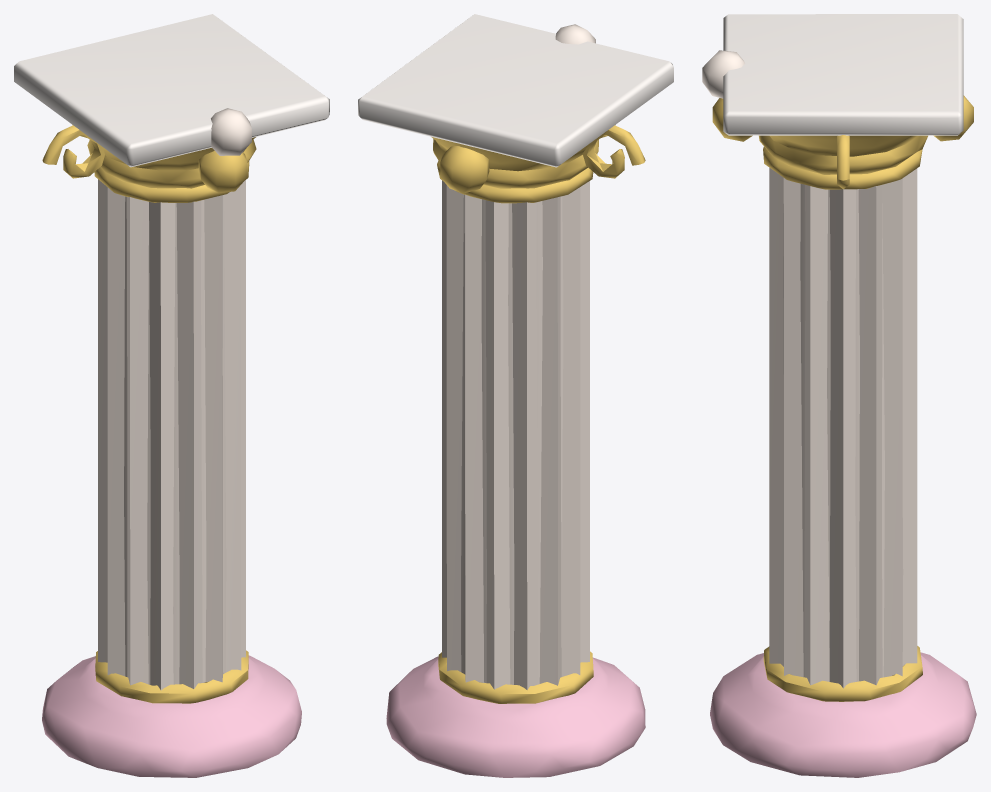
The model's file is column_rococo.glb.
3 views of the same model, side by side, from view 1: azimuth 30°, elevation 25°; view 2: azimuth 150°, elevation 25°; view 3: azimuth 270°, elevation 25° (orthographic). The views are drawn at different scales.
Parts seen in each view (by area): view 1: column_rococo; view 2: column_rococo; view 3: column_rococo.
Part boxes in pixels (x1,y1,x2,y2): column_rococo: [14, 14, 329, 777]; column_rococo: [358, 14, 673, 777]; column_rococo: [702, 14, 976, 777].
Bounding box in the file's own units: 1.45 × 3.55 × 1.31.
